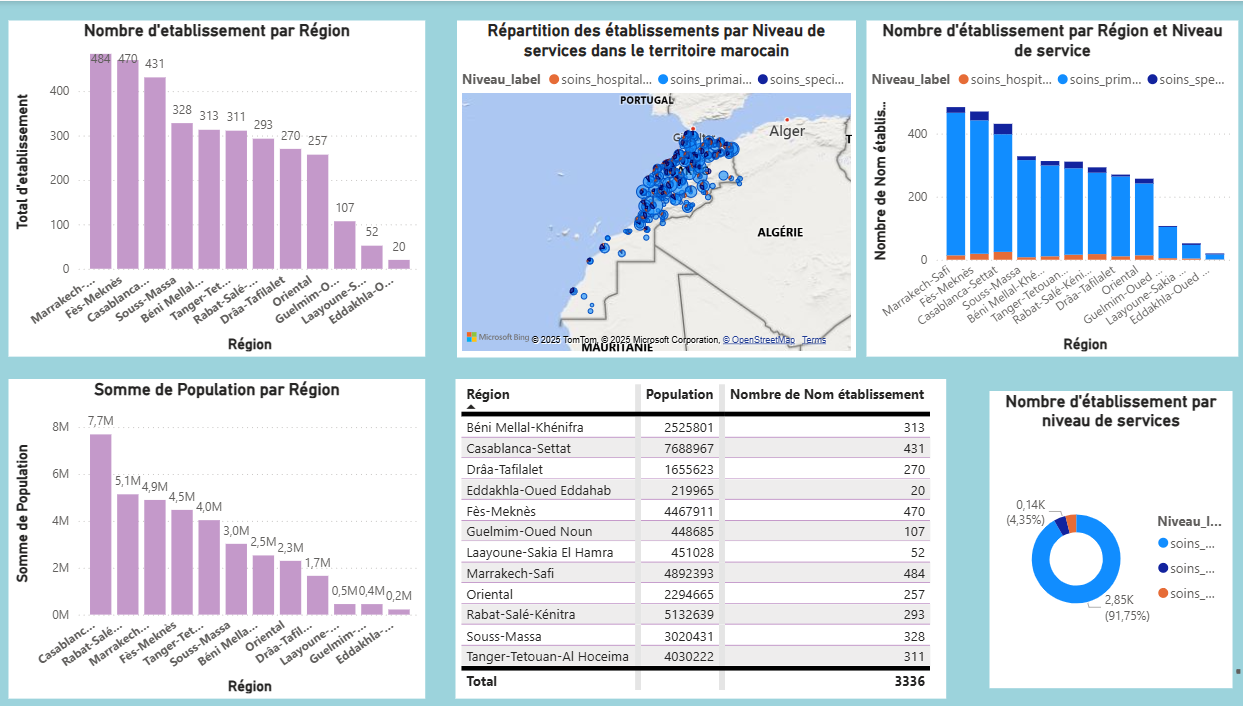

The dashboard page shown, as its layout file describes it:
{"tool":"powerbi","page":{"name":"Page 1","canvas":[1280,720],"ordinal":0},"visuals":[{"type":"columnChart","title":"Nombre d''etablissement  par Région","fields":{"Category":["Public.Région"],"Y":["Public.Total_etab_public"]},"box":[19.7,19.7,420.9,339.2],"z":0},{"type":"actionButton","box":[1255.3,657.2,12.1,39.4],"z":1000},{"type":"map","title":"Répartition des établissements par Niveau de services dans le territoire marocain","fields":{"Y":["Sheet1 (2).latitude"],"X":["Sheet1 (2).longitude"],"Series":["Sheet1 (2).Niveau_label"],"Size":["CountNonNull(Sheet1 (2).Nom établissement)"]},"box":[472.4,19.7,402.8,339.2],"z":2000},{"type":"columnChart","title":"Nombre d''établissement par Région et Niveau de service","fields":{"Category":["Sheet1 (2).Région"],"Series":["Sheet1 (2).Niveau_label"],"Y":["CountNonNull(Sheet1 (2).Nom établissement)"]},"box":[885.8,19.7,375.5,339.2],"z":3000},{"type":"donutChart","title":"Nombre d''établissement par niveau de services","fields":{"Y":["Count(Sheet1 (2).Nom établissement)"],"Category":["Sheet1 (2).Niveau_label"]},"box":[1010,393.7,245.3,299.8],"z":4000},{"type":"tableEx","fields":{"Values":["Sheet1 (2).Région","Sum(Sheet1 (2).Population)","Sheet1 (2).Nom établissement"]},"box":[470.9,381.6,495.1,322.5],"z":5000},{"type":"columnChart","fields":{"Category":["Data_Coordonnees.Région"],"Y":["Sum(Population.Population)"]},"box":[19.7,381.6,420.9,322.5],"z":6000}]}

Visuals, with their boxes in screenshot pixels (x1, y1, x2, y2), scaled from the page's 1280x720 canvas onto the 1243x706 screenshot:
"Nombre d''etablissement  par Région" columnChart: [x1=19, y1=19, x2=428, y2=352]
actionButton: [x1=1219, y1=644, x2=1231, y2=683]
"Répartition des établissements par Niveau de services dans le territoire marocain" map: [x1=459, y1=19, x2=850, y2=352]
"Nombre d''établissement par Région et Niveau de service" columnChart: [x1=860, y1=19, x2=1225, y2=352]
"Nombre d''établissement par niveau de services" donutChart: [x1=981, y1=386, x2=1219, y2=680]
tableEx - Sheet1 (2).Région x Sum(Sheet1 (2).Population): [x1=457, y1=374, x2=938, y2=690]
columnChart - Data_Coordonnees.Région x Sum(Population.Population): [x1=19, y1=374, x2=428, y2=690]
